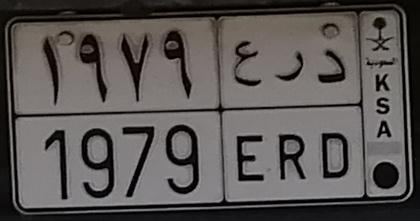1: (40, 37, 70, 202)
7: (120, 31, 156, 199)
9: (162, 30, 201, 196), (78, 33, 116, 200)
D: (317, 46, 351, 180)
E: (232, 40, 266, 183)
R: (274, 51, 307, 181)
